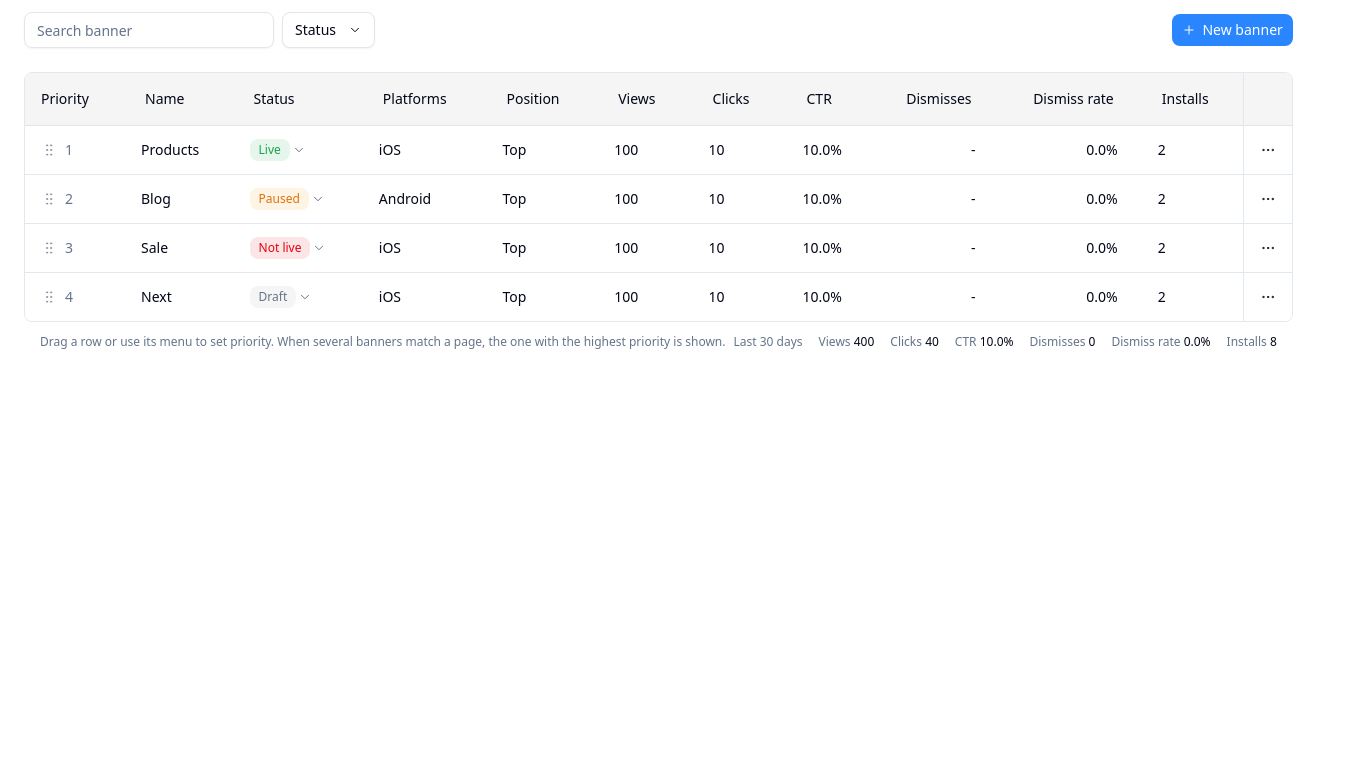
SmartBannersPage search and filters › shows no results, not the empty state, when nothing matches
Type "zzz" into the field with placeholder "Search banner" at (149, 30), box 24,12 -> 274,48
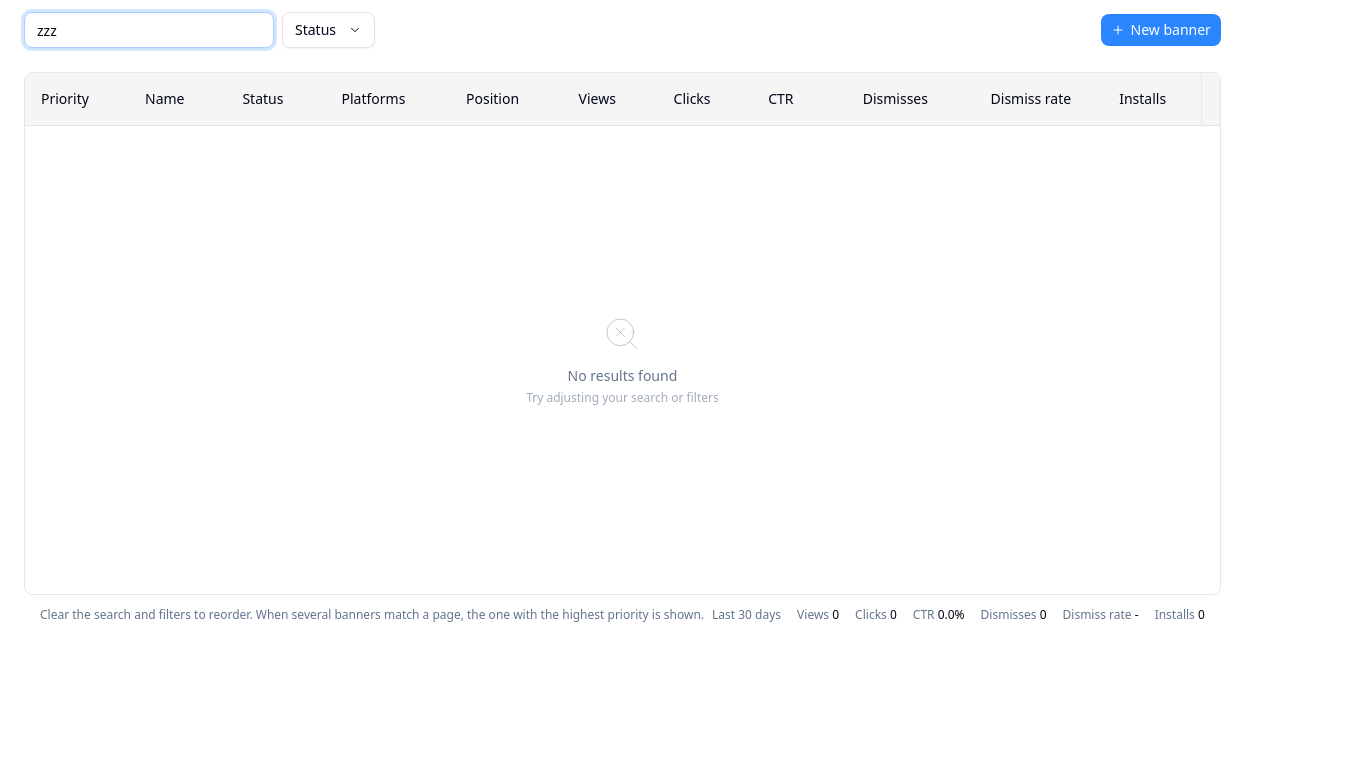
Now the text "No results found" is shown, box 568,366 -> 677,385
